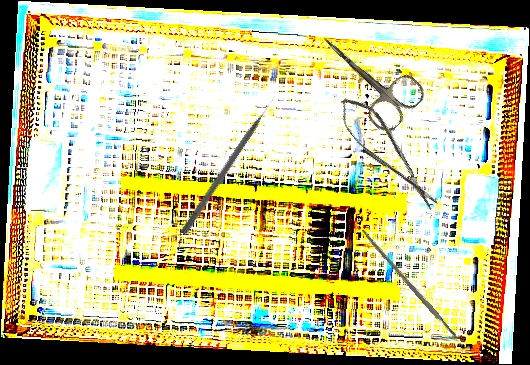Iris Scissors: (304, 14, 429, 138)
Micro Scissor: (331, 88, 445, 220)
Pusher: (179, 94, 280, 237)
Scalpel Handle: (360, 228, 458, 340)
